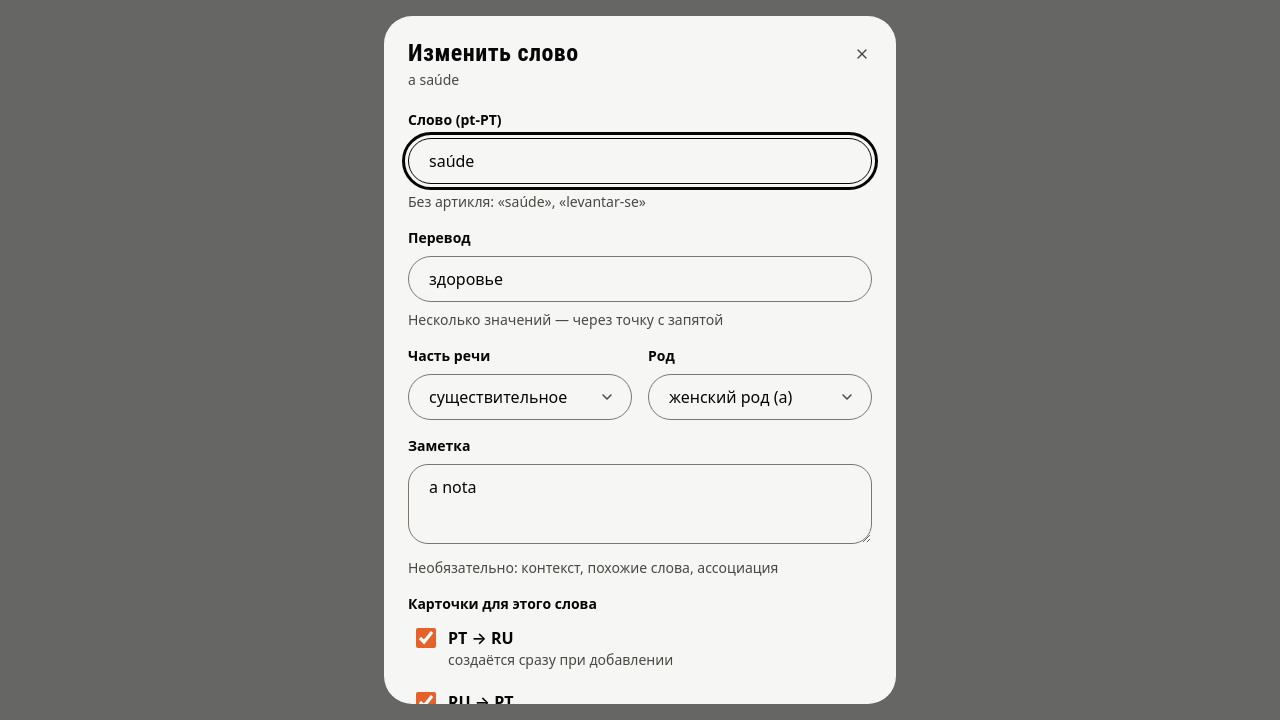
Test case: WordEditor › a failed save keeps the dialog open with the error
The width and height of the screenshot is (1280, 720).
Type "!" into the field labelled "Перевод" at (640, 279), box [408,256,872,302]
(page scrolled)
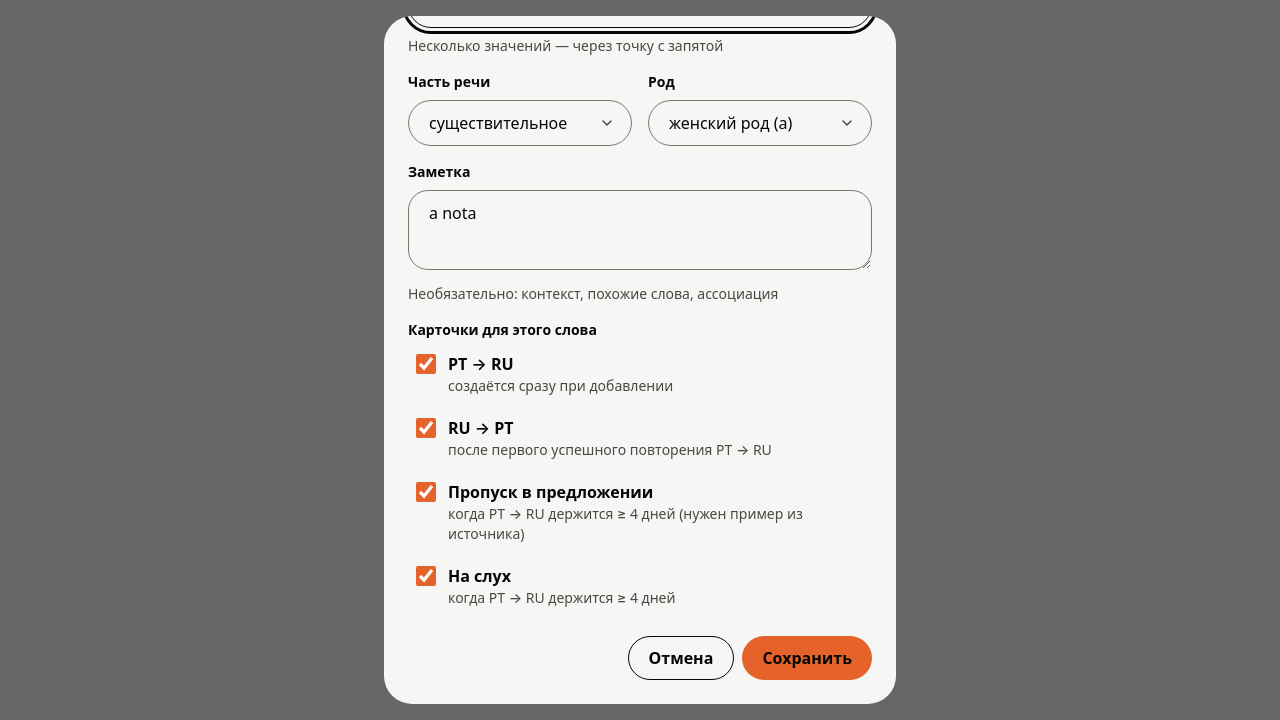
Click the button "Сохранить" at (807, 658), box [742,636,872,680]
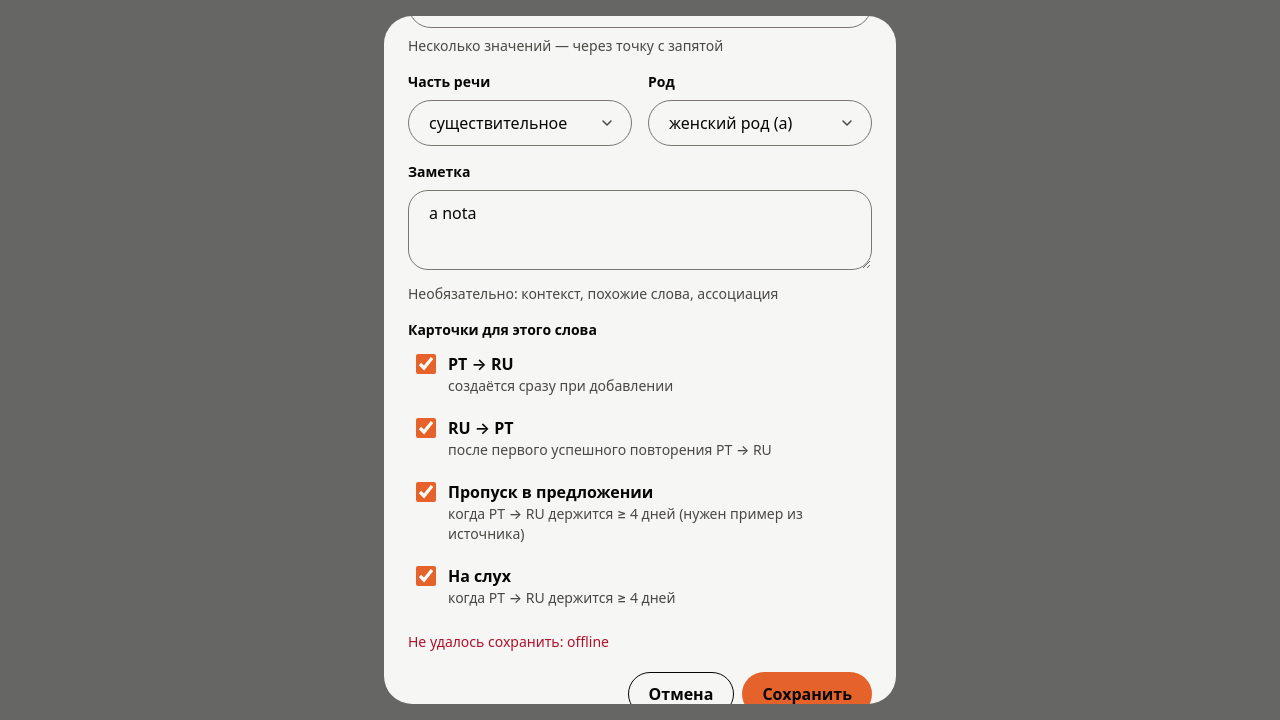
Expected: the button "Сохранить" is enabled, [742,672,872,704]
Expected: the message reads "Не удалось сохранить: offline", [408,632,609,651]
